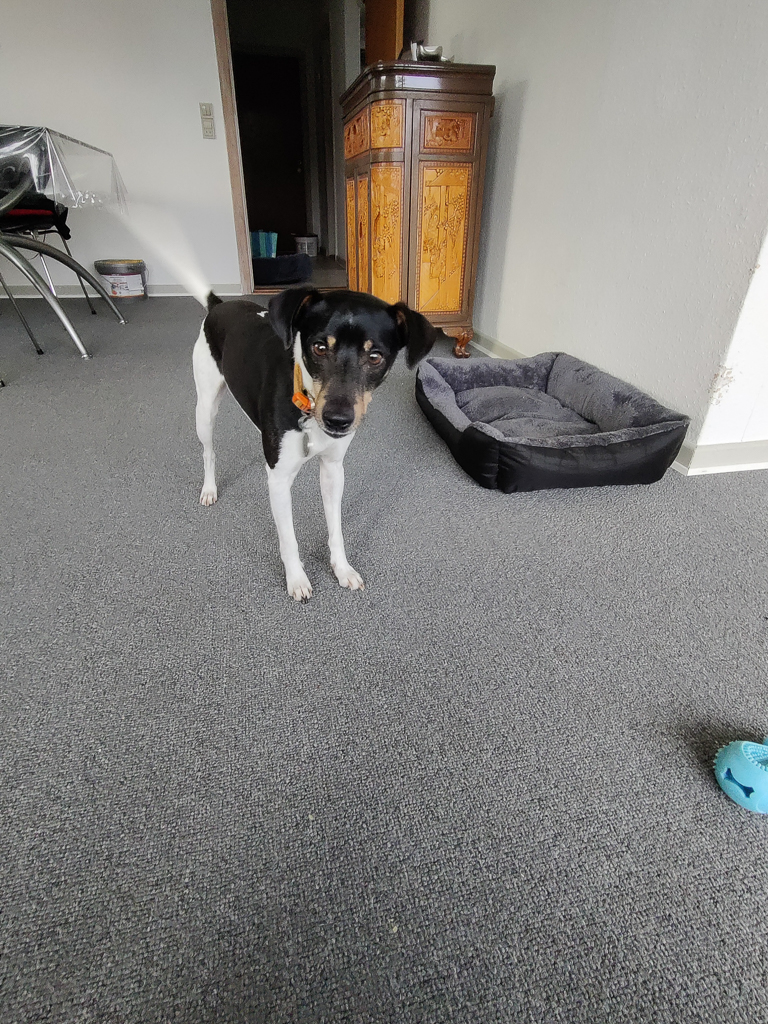Dog: (93, 189, 445, 614)
